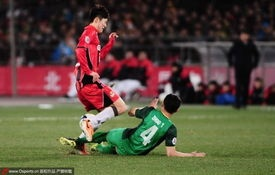falling: (55, 89, 197, 158)
